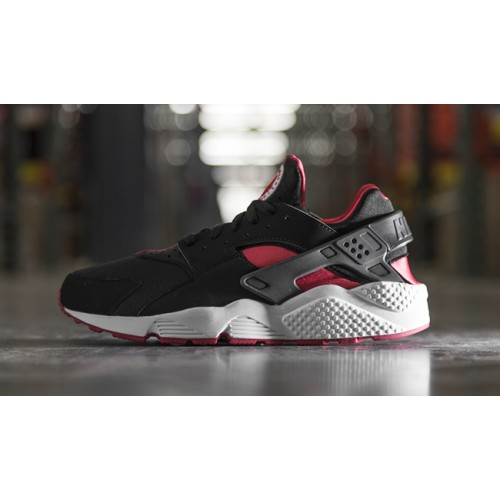Air Huarache Bred: (52, 151, 446, 353)
